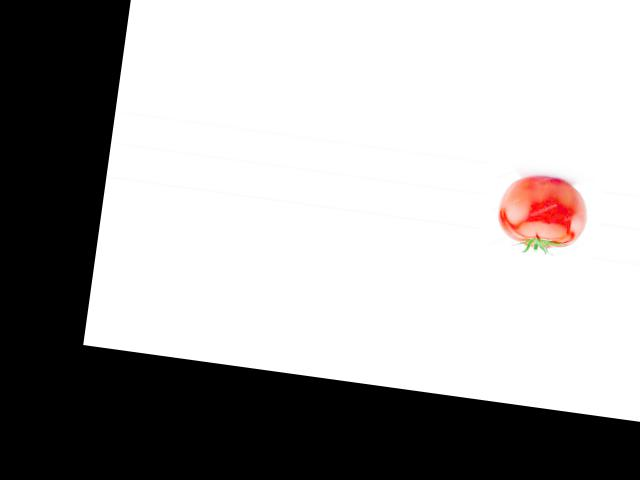tomato: (493, 172, 591, 253)
